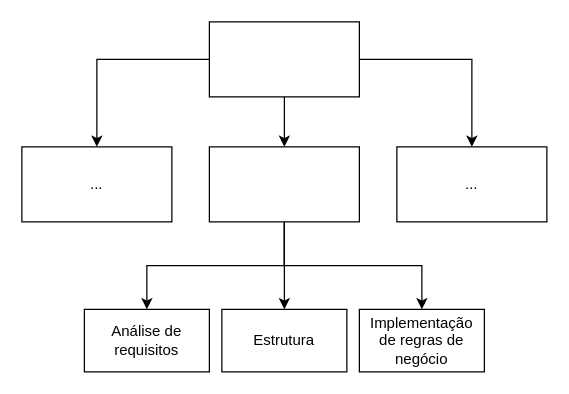
The diagram is 569 pixels wide and 394 high, and some of its shapes have lost their labels. The centre of each missing label's shape, as x and y in pixels:
"Componente de controlo aplicacional API" goes at pixel 283 184.
"Dynamic Blocks" goes at pixel 283 59.
